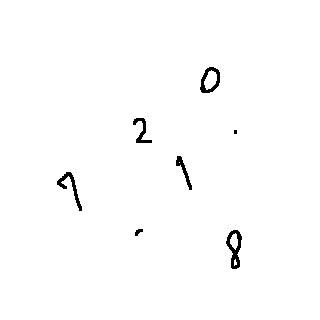.: (232, 124, 246, 146), (132, 225, 153, 237)
0: (195, 62, 223, 100)
1: (174, 146, 206, 200)
2: (130, 114, 161, 151)
7: (48, 168, 94, 214)
8: (212, 218, 255, 276)
